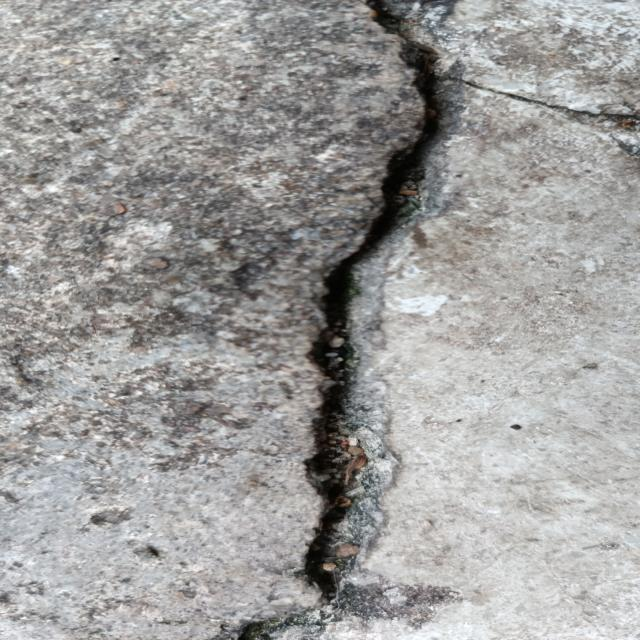branched cracks: (306, 0, 639, 599)
